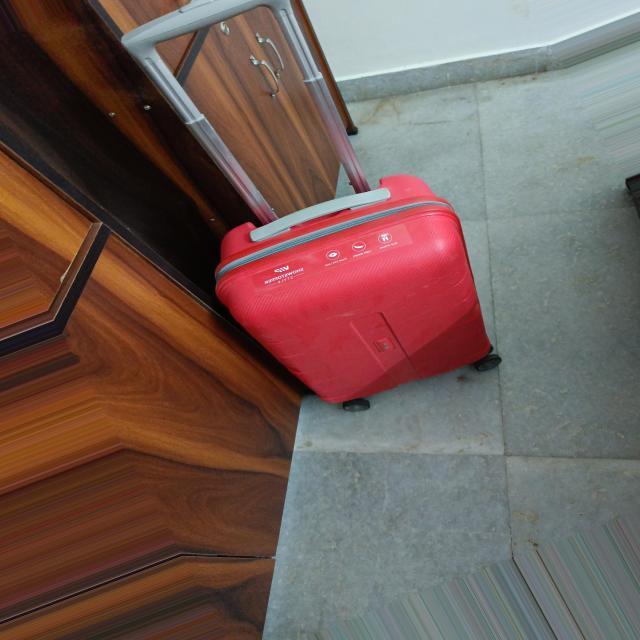Bag: (112, 0, 495, 420)
Handle: (124, 2, 394, 241)
